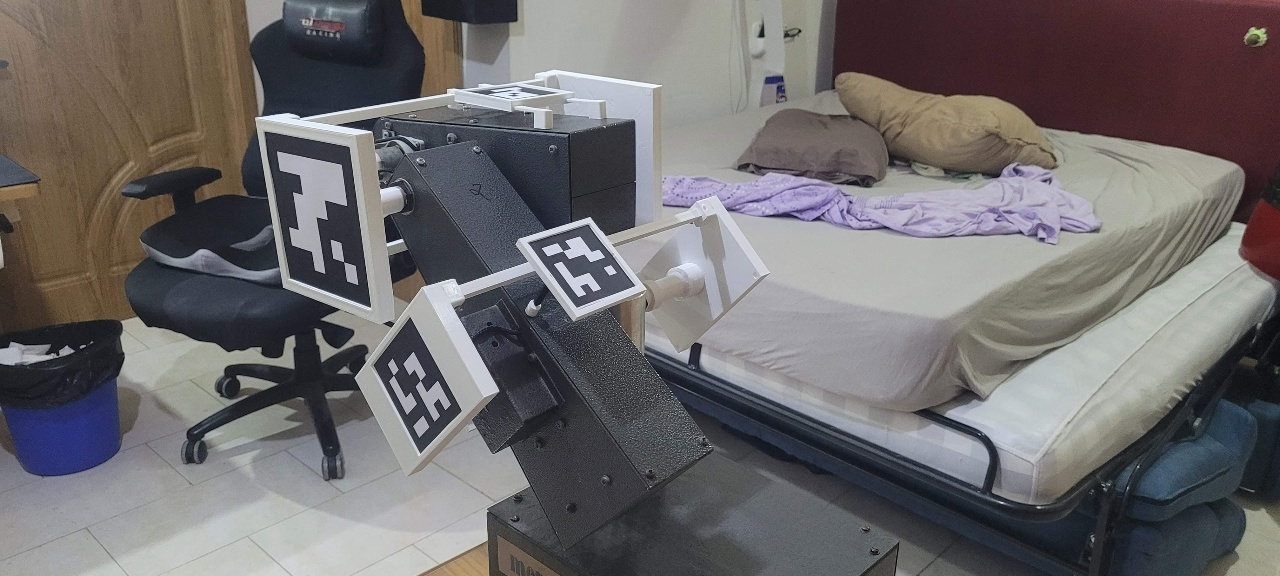Robot: (254, 68, 770, 553)
